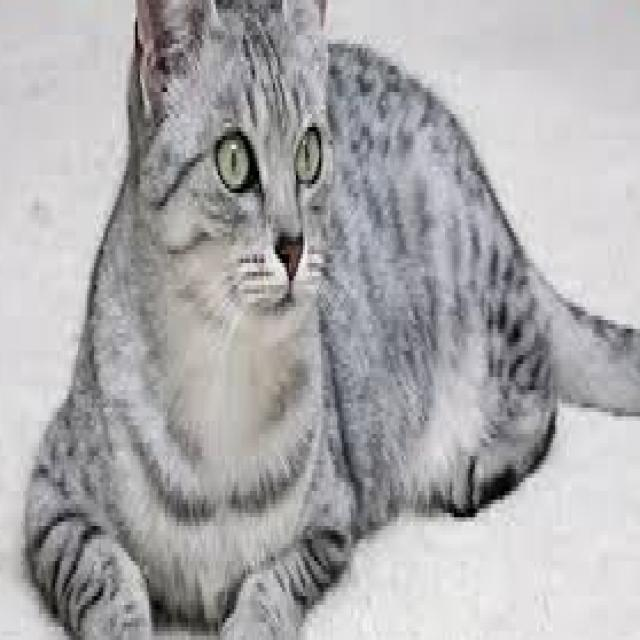Egyptian Mau: (16, 0, 640, 640)
